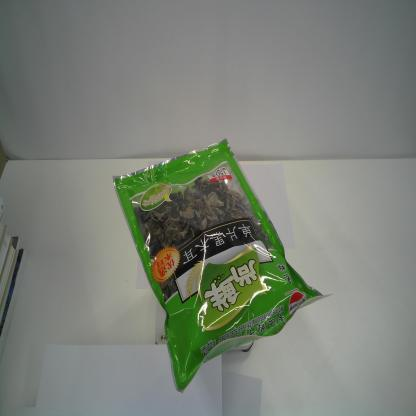Dried Food: (112, 132, 332, 396)
